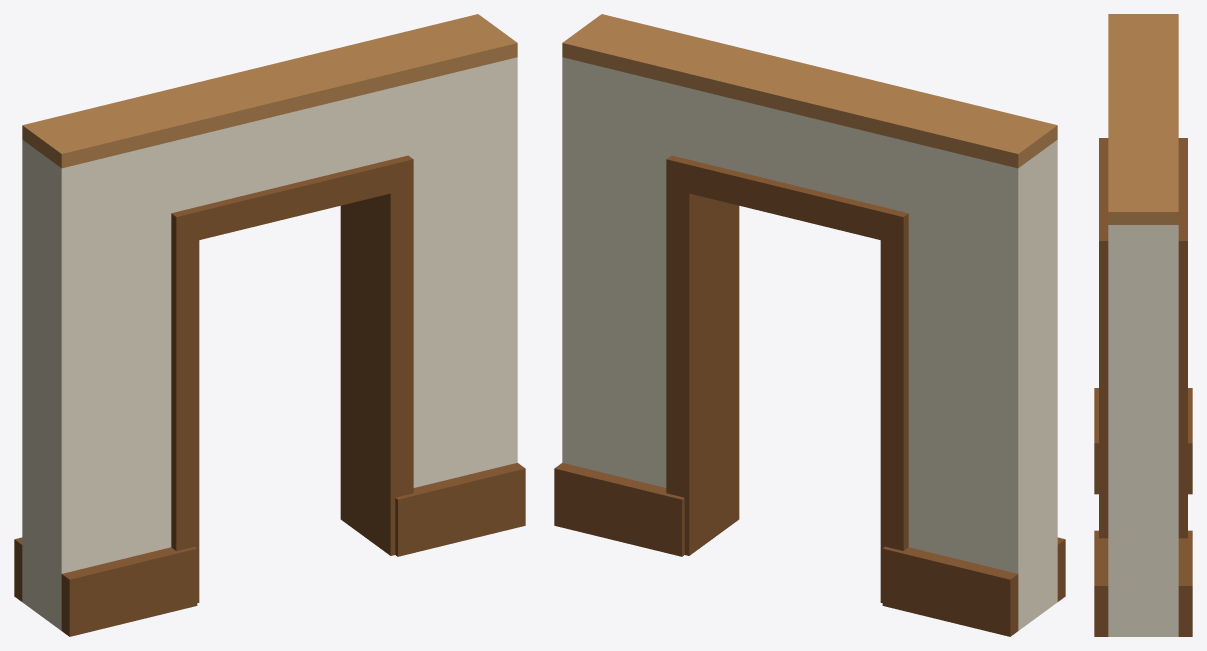
Rendered from wall-door.glb.
3 views of the same model, side by side, from view 1: azimuth 30°, elevation 25°; view 2: azimuth 150°, elevation 25°; view 3: azimuth 270°, elevation 25° (orthographic). The views are drawn at different scales.
Parts seen in each view (by area): view 1: wall-door; view 2: wall-door; view 3: wall-door.
Part boxes in pixels (x1,y1,x2,y2): wall-door: [14, 14, 525, 636]; wall-door: [554, 14, 1065, 636]; wall-door: [1094, 14, 1192, 636].
Bounding box in the file's own units: 1 × 1 × 0.21.
1 material, 1 textured.
